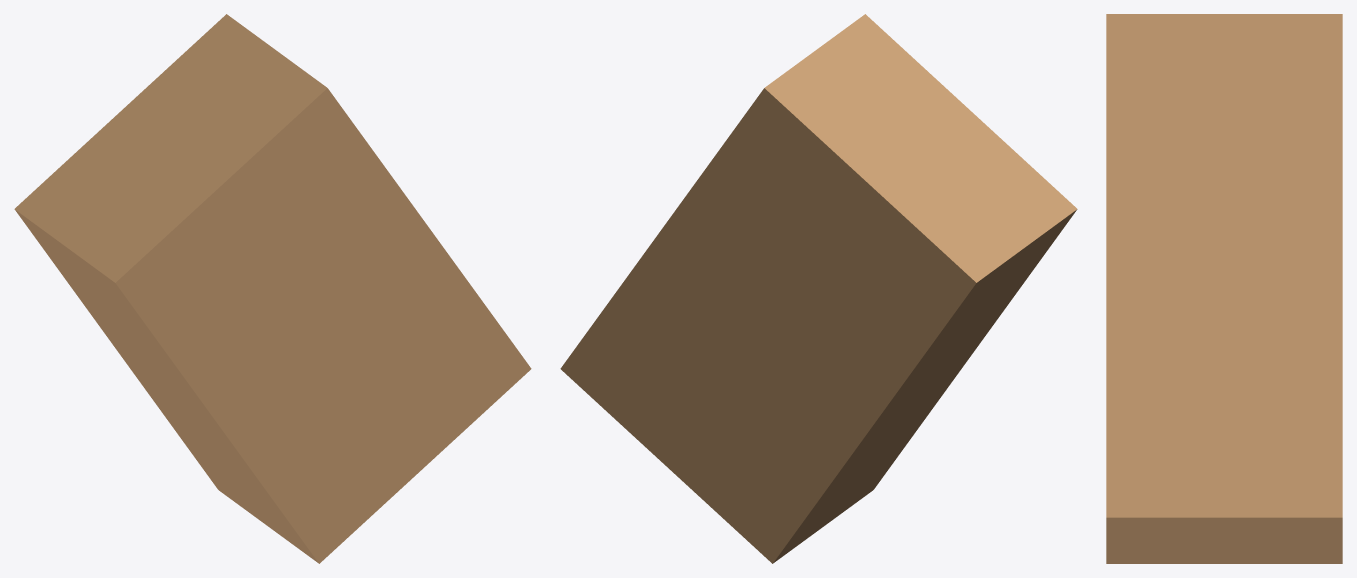
3 views of the same model, side by side, from view 1: azimuth 30°, elevation 25°; view 2: azimuth 150°, elevation 25°; view 3: azimuth 270°, elevation 25° (orthographic). The views are drawn at different scales.
Visible parts, largest first — view 1: smallbox.obj; view 2: smallbox.obj; view 3: smallbox.obj.
Part boxes in pixels (x1=…): smallbox.obj: x1=14, y1=14, x2=531, y2=563; smallbox.obj: x1=560, y1=14, x2=1077, y2=563; smallbox.obj: x1=1106, y1=14, x2=1342, y2=563.
Size of the model in its own units: 0.3701 by 0.4027 by 0.1556.
